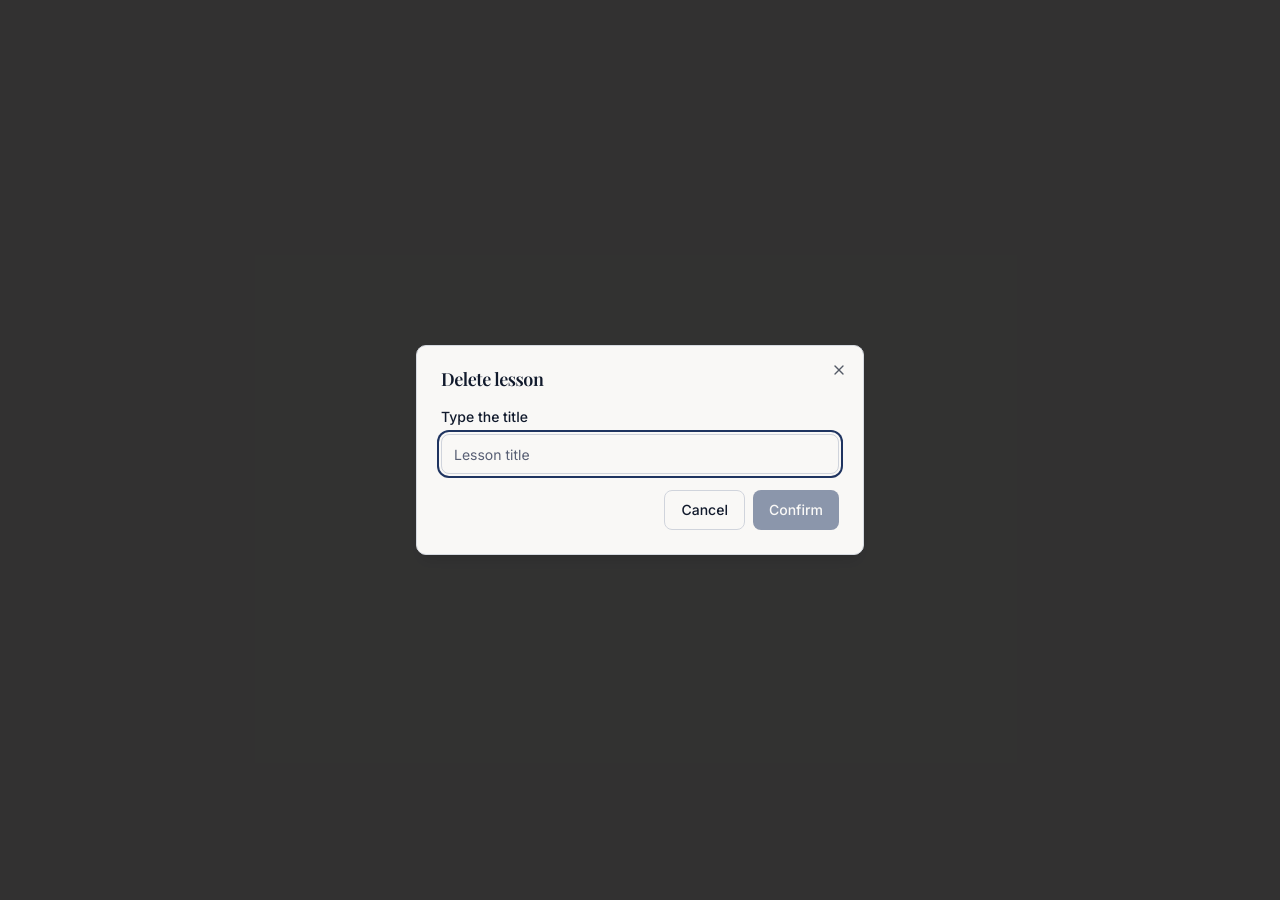
ConfirmDialog › keeps Confirm disabled until a non-blank value is typed, then submits the trimmed value
Later steps or results of the test are not shown.
Expected: the button "Confirm" is disabled, [753,490,839,530]
Type "  Final draft  " into the field with placeholder "Lesson title" at x=640, y=454, box [441,434,839,474]
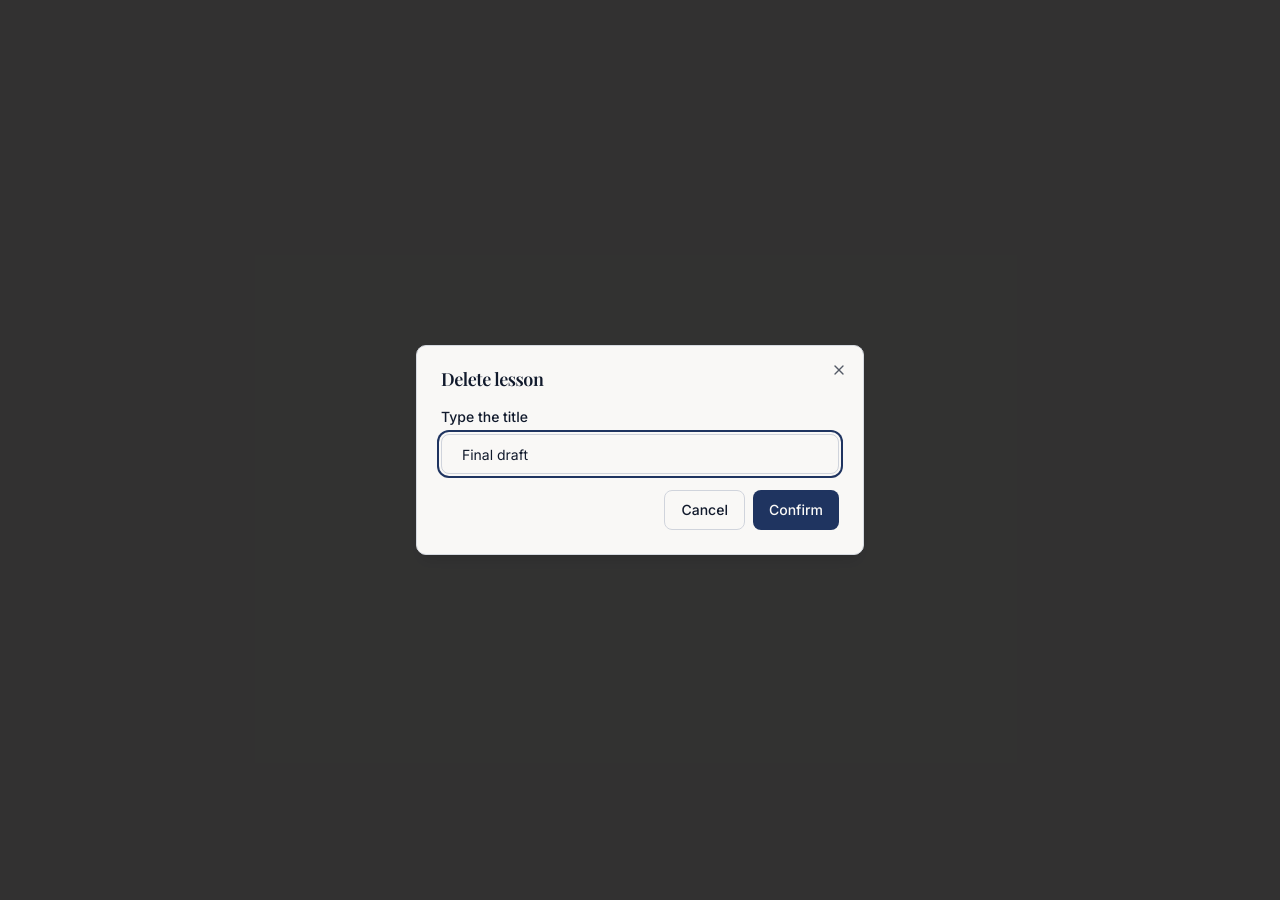
Expected: the button "Confirm" is enabled, [753,490,839,530]
